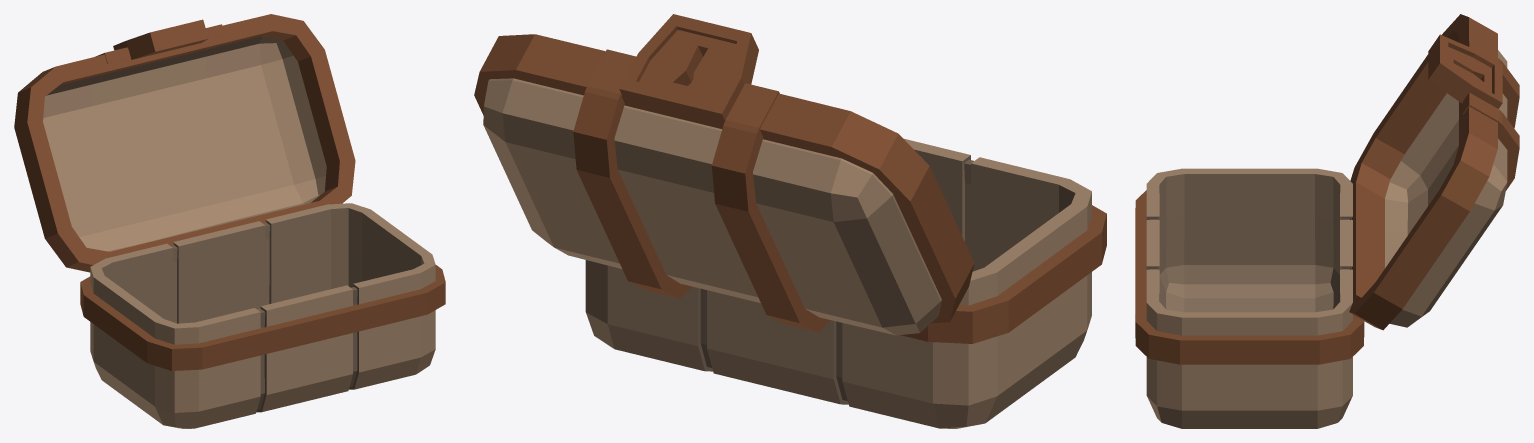
File: chest_open.glb
The picture shows the model from 3 angles, left to right: view 1: azimuth 30°, elevation 25°; view 2: azimuth 150°, elevation 25°; view 3: azimuth 270°, elevation 25°; orthographic projection. The views are drawn at different scales.
Visible parts, largest first — view 1: Cube.007, Cube.004; view 2: Cube.007, Cube.004; view 3: Cube.004, Cube.007.
Boxes of the visible parts, x1,y1,x2,y2 form: Cube.007: (14, 14, 445, 370); Cube.004: (90, 203, 435, 428); Cube.007: (474, 14, 1106, 343); Cube.004: (585, 139, 1091, 428); Cube.004: (1146, 168, 1352, 428); Cube.007: (1135, 14, 1519, 364).
Bounding box in the file's own units: 1.47 × 1.37 × 1.49.
Materials: 1 (1 with a texture image).
